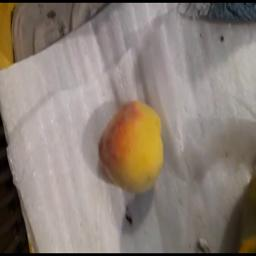Peach Semifresh: (86, 95, 180, 203)
